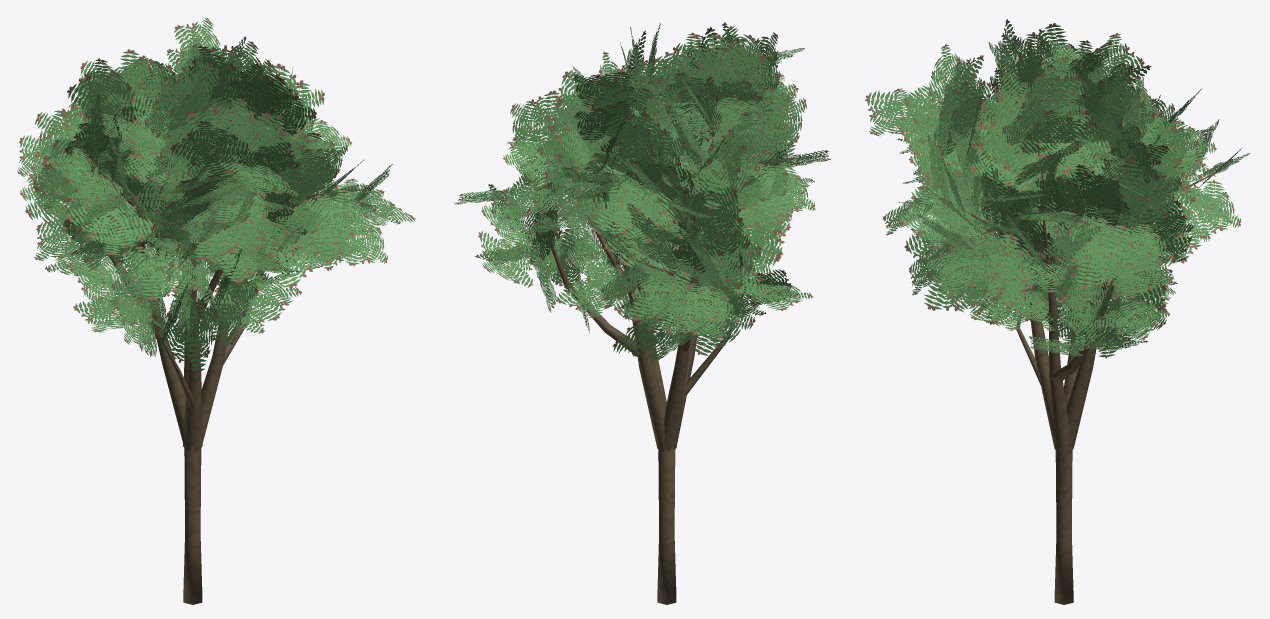
File: model_cedrorosa_01.fbx
3 views of the same model, side by side, from view 1: azimuth 30°, elevation 25°; view 2: azimuth 150°, elevation 25°; view 3: azimuth 270°, elevation 25° (orthographic).
Parts seen in each view (by area): view 1: Cedro; view 2: Cedro; view 3: Cedro.
Boxes of the visible parts, left/top/right/bottom form: Cedro: left=17, top=18, right=415, bottom=604; Cedro: left=454, top=22, right=831, bottom=604; Cedro: left=865, top=19, right=1250, bottom=604.
Bounding box in the file's own units: 8.19 × 13.26 × 8.4.
Materials: 2 (2 with a texture image).
